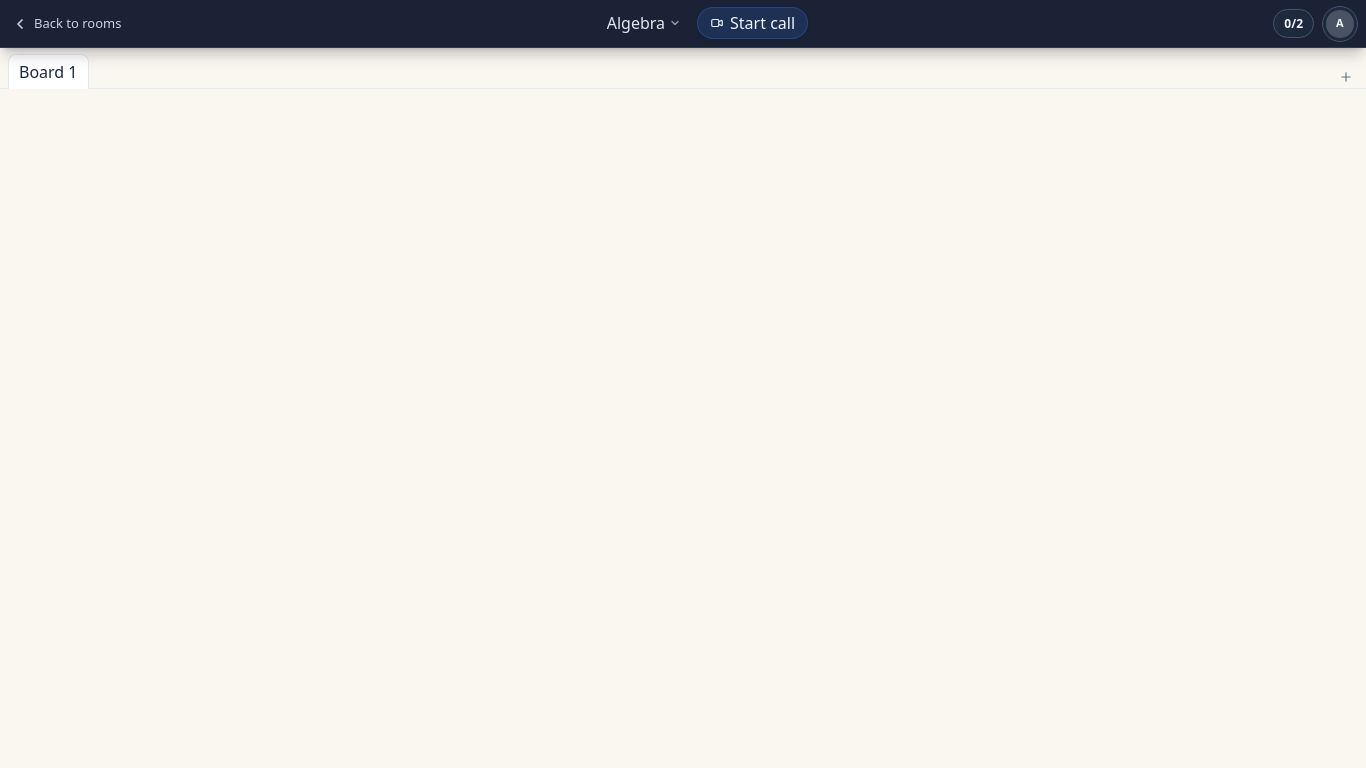
Scenario: RoomContent main room › opens the device check instead of joining when start is pressed
Click the button with test id "av-start-call": coordinates (752, 24) [697, 8, 808, 40]
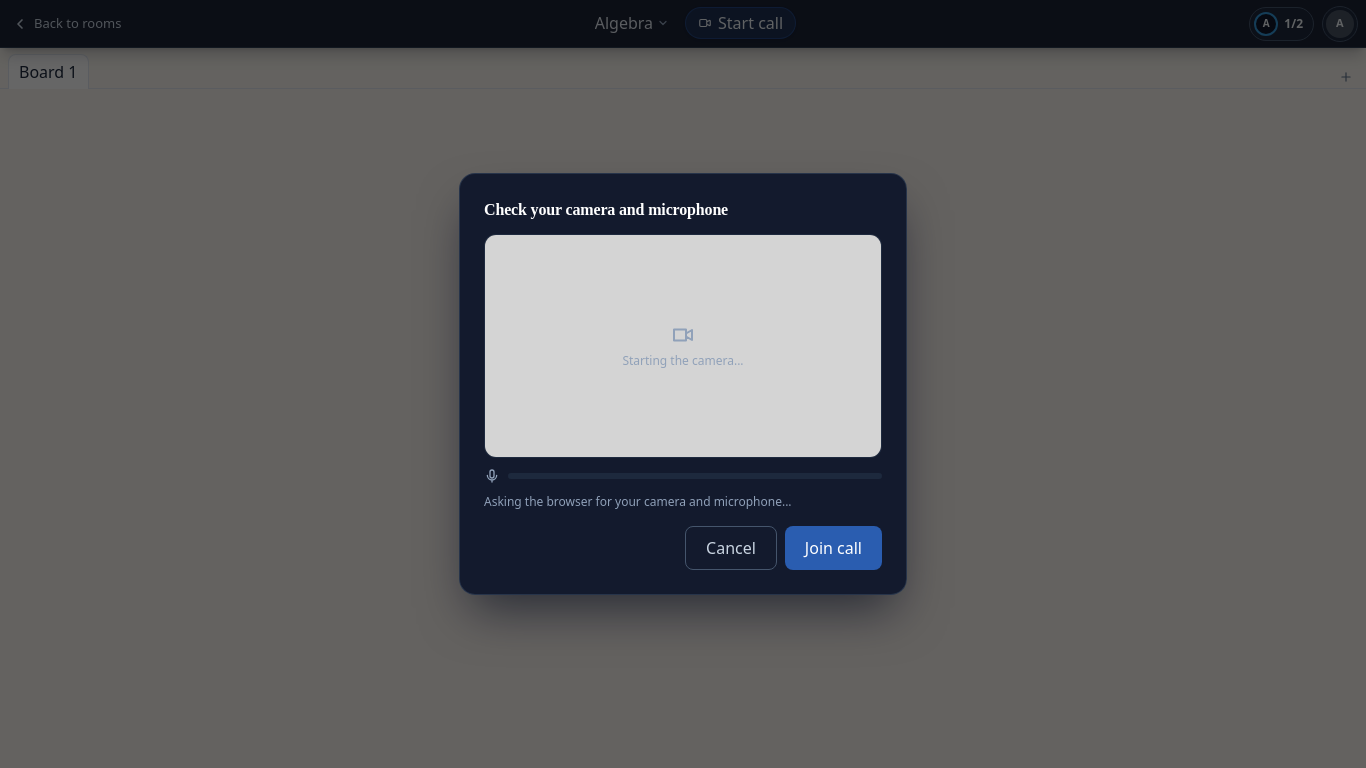
Now the element with test id "av-pre-join" is shown
